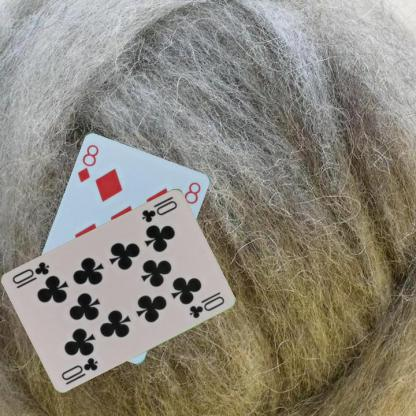10c: (59, 354, 99, 386), (139, 198, 179, 224)
8d: (75, 142, 101, 184)
